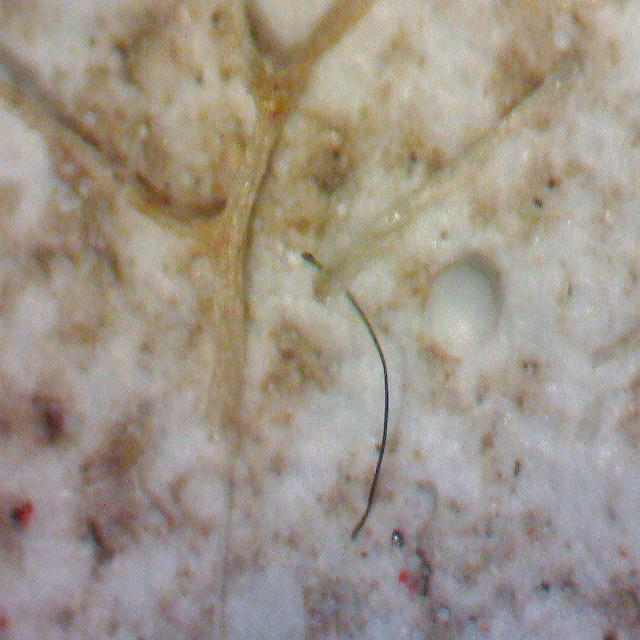microplastic: (301, 244, 415, 542)
